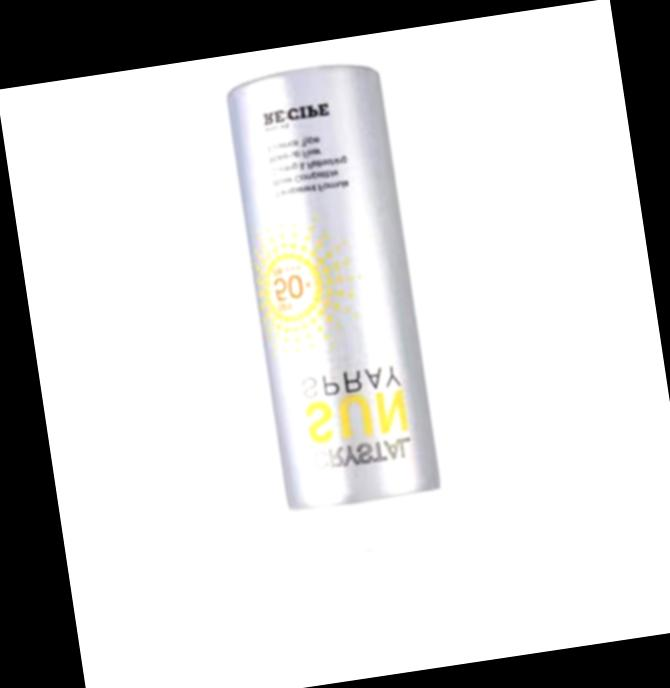cosmetic: (225, 58, 468, 656)
